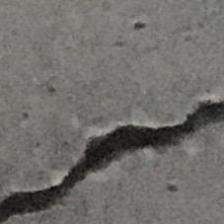Crack: (1, 47, 224, 223)
